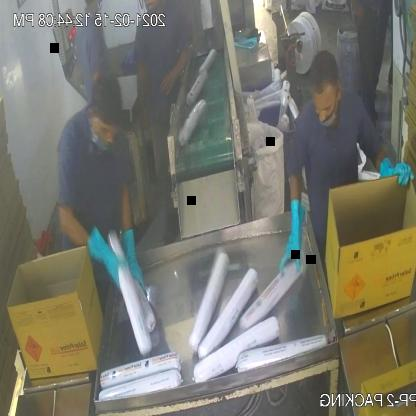glove: (278, 194, 317, 280), (86, 219, 122, 302), (116, 221, 150, 293), (366, 153, 416, 201)
no_glove: (159, 35, 189, 90), (136, 56, 150, 132)
